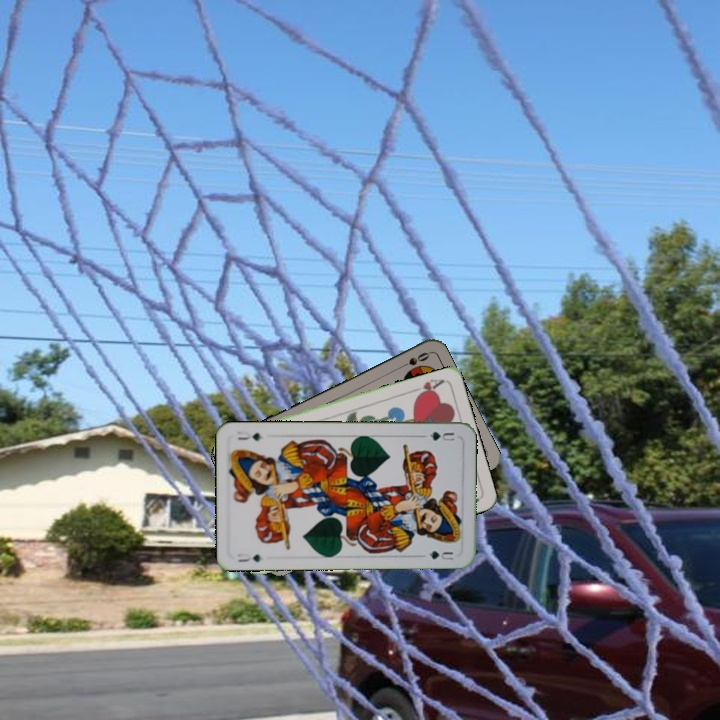GU: (419, 428, 457, 443), (233, 549, 263, 564)
HA: (407, 375, 447, 400)
SO: (394, 348, 432, 372)
